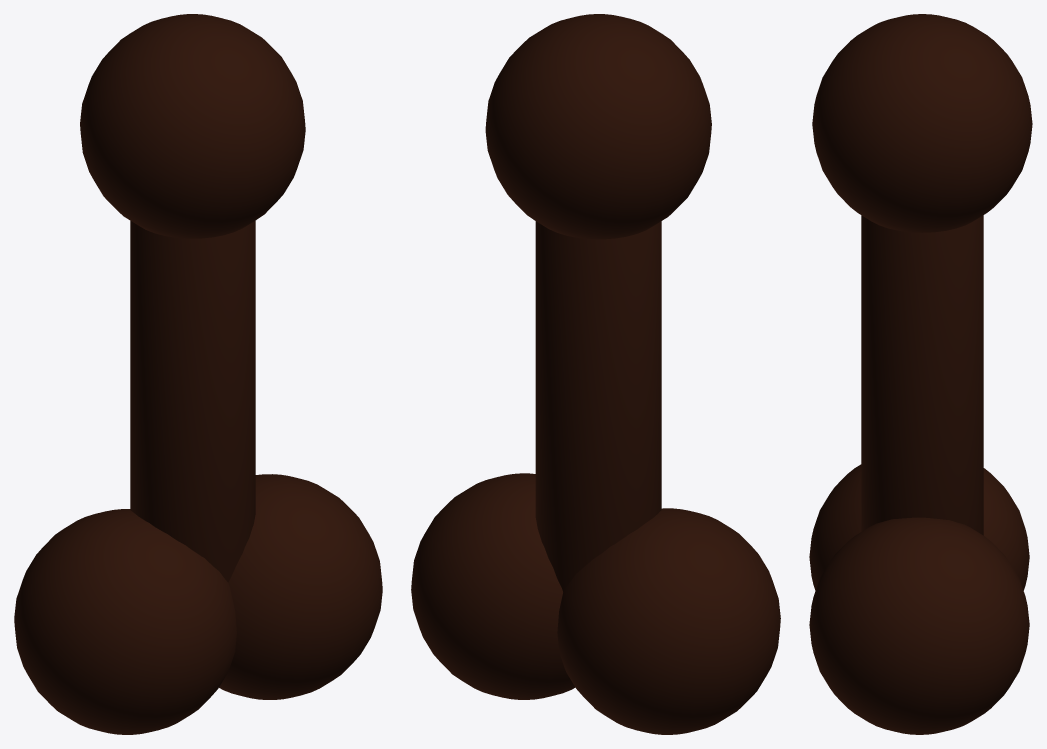
File: modelo.glb
3 renders of one model, left to right at view 1: azimuth 30°, elevation 25°; view 2: azimuth 150°, elevation 25°; view 3: azimuth 270°, elevation 25°, orthographic. The views are drawn at different scales.
Visible parts, largest first — view 1: Sphere.002, Cylinder, Sphere, Sphere.001; view 2: Sphere.002, Cylinder, Sphere, Sphere.001; view 3: Sphere.002, Sphere.001, Cylinder, Sphere.
Part boxes in pixels (left/top/right/bottom): Sphere.002: left=80, top=14, right=305, bottom=238; Cylinder: left=130, top=220, right=255, bottom=582; Sphere: left=14, top=509, right=236, bottom=734; Sphere.001: left=219, top=474, right=382, bottom=699; Sphere.002: left=485, top=14, right=711, bottom=239; Cylinder: left=535, top=221, right=661, bottom=591; Sphere: left=557, top=508, right=780, bottom=734; Sphere.001: left=411, top=473, right=575, bottom=699; Sphere.002: left=812, top=14, right=1032, bottom=232; Sphere.001: left=809, top=517, right=1029, bottom=734; Cylinder: left=861, top=215, right=983, bottom=535; Sphere: left=809, top=464, right=1029, bottom=590.
Bounding box in the file's own units: 3.46 × 6.66 × 2.03.
